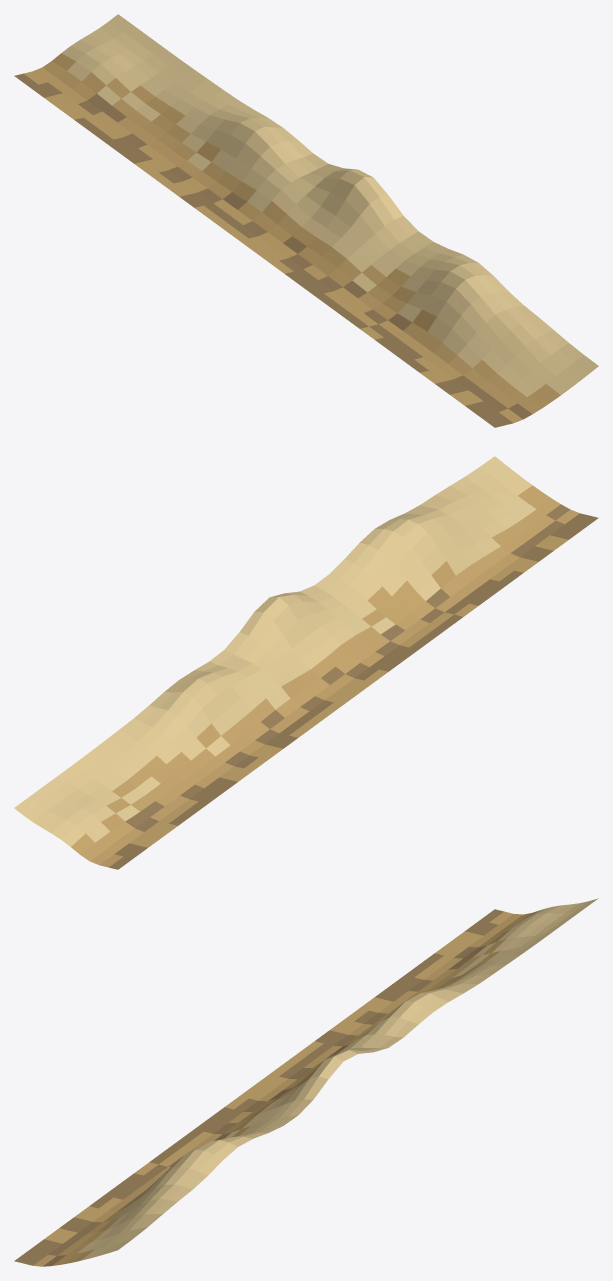
Rendered from terrain_beach_bank.glb.
3 views of the same model, one above another, from view 1: azimuth 30°, elevation 25°; view 2: azimuth 150°, elevation 25°; view 3: azimuth 330°, elevation 25° (orthographic).
Visible parts, largest first — view 1: terrain_beach_bank; view 2: terrain_beach_bank; view 3: terrain_beach_bank.
Boxes of the visible parts, <box> form: terrain_beach_bank: <box>14,14,598,427</box>; terrain_beach_bank: <box>14,456,598,869</box>; terrain_beach_bank: <box>14,898,598,1266</box>.
Size of the model in its own units: 12 by 6.91 by 96.
